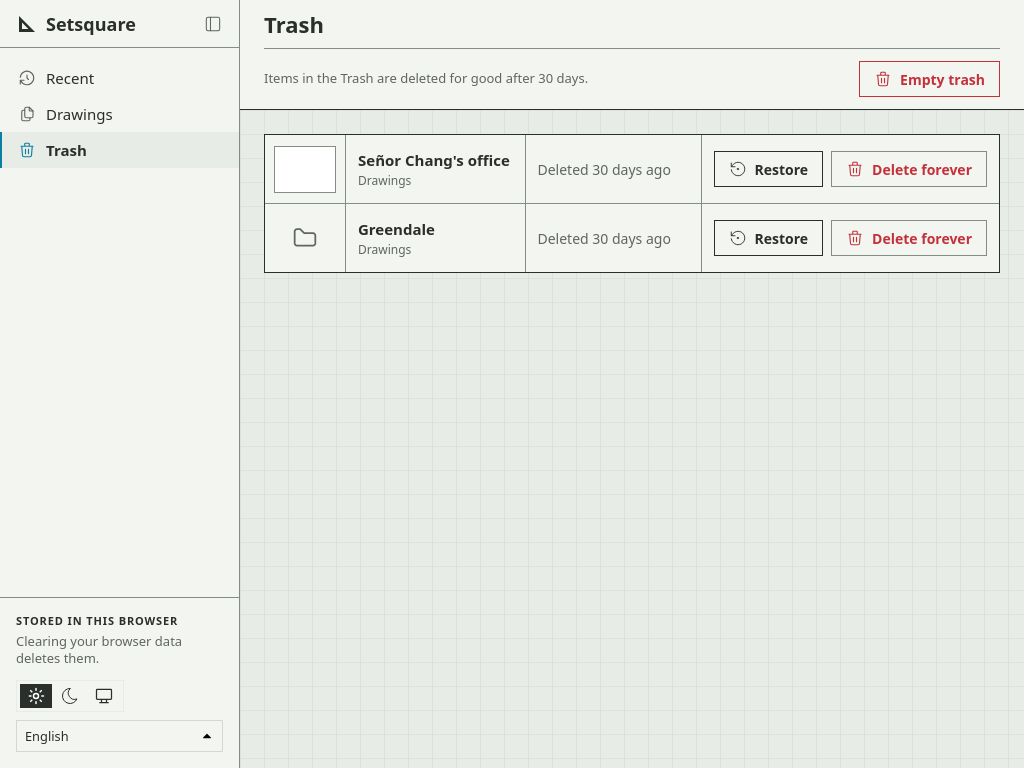
Test: the Trash › empties once that's confirmed
Click the button "Empty trash" at (930, 79), box [859,61,1000,97]
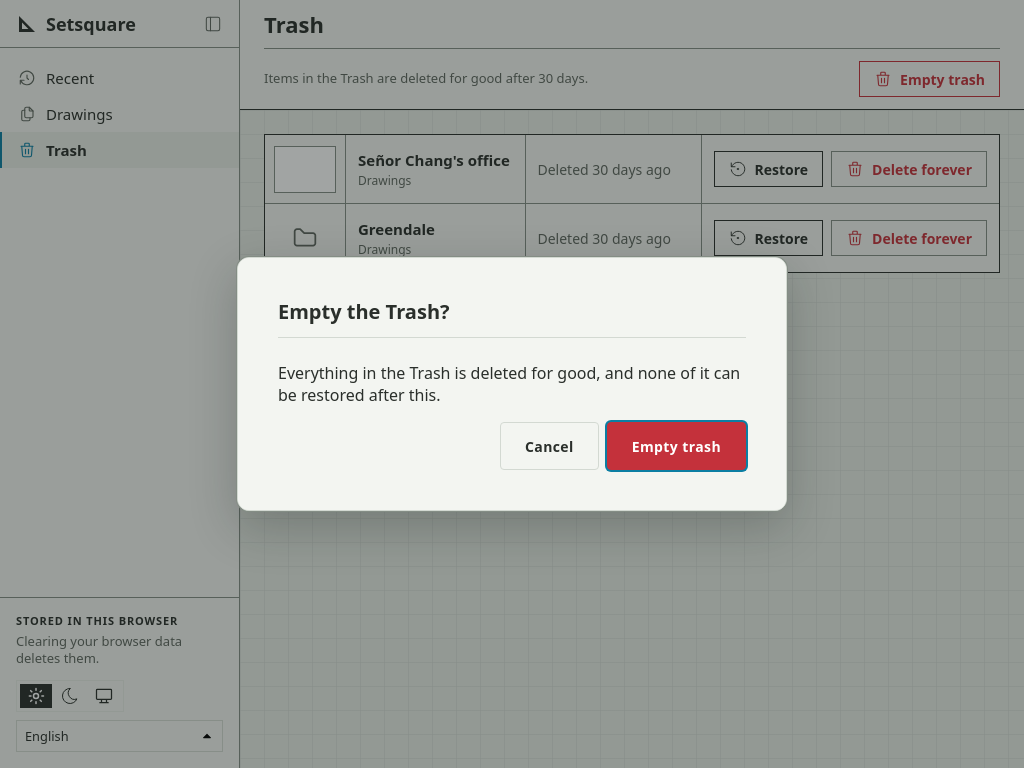
expect the heading "Empty the Trash?" is shown: met, box [278,298,746,338]
Click the button "Cancel" at (549, 446), box [500,422,599,470]
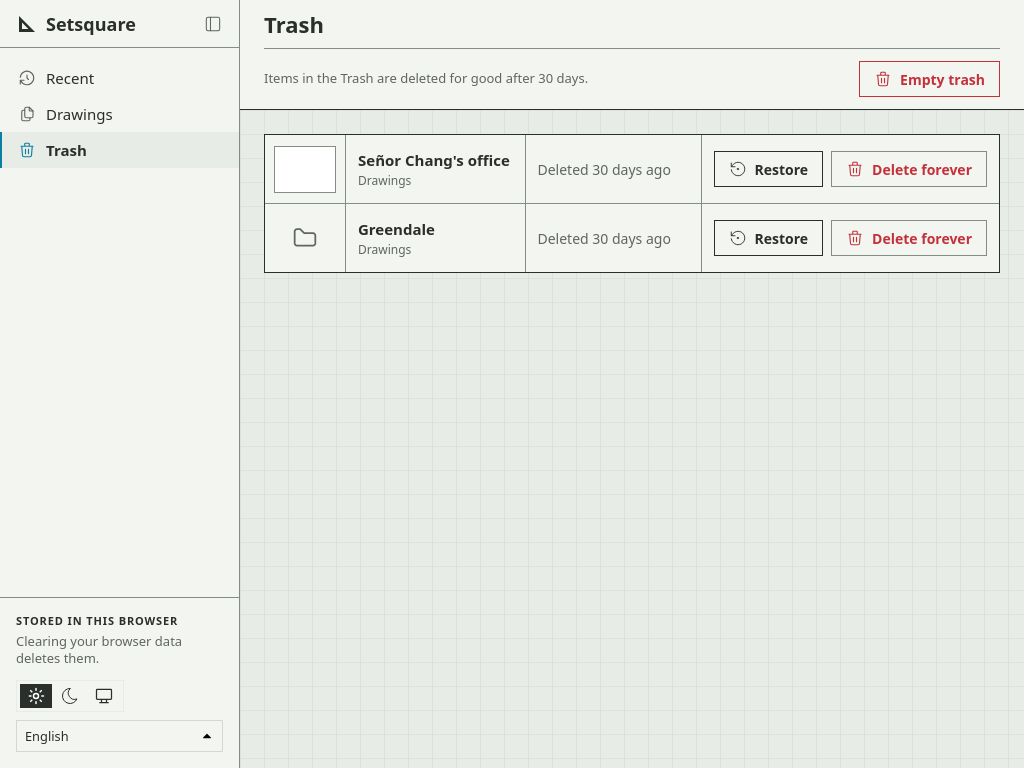
Click the button "Empty trash" at (930, 79), box [859,61,1000,97]
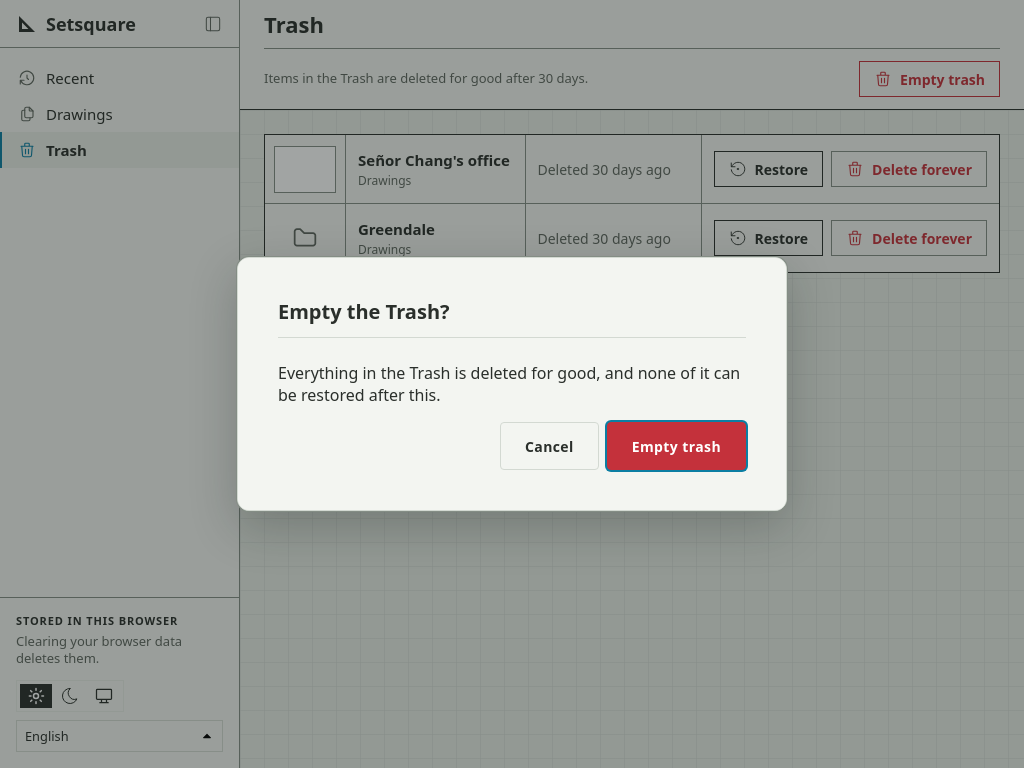
Click the button "Empty trash" at (676, 446), box [607,422,746,470]
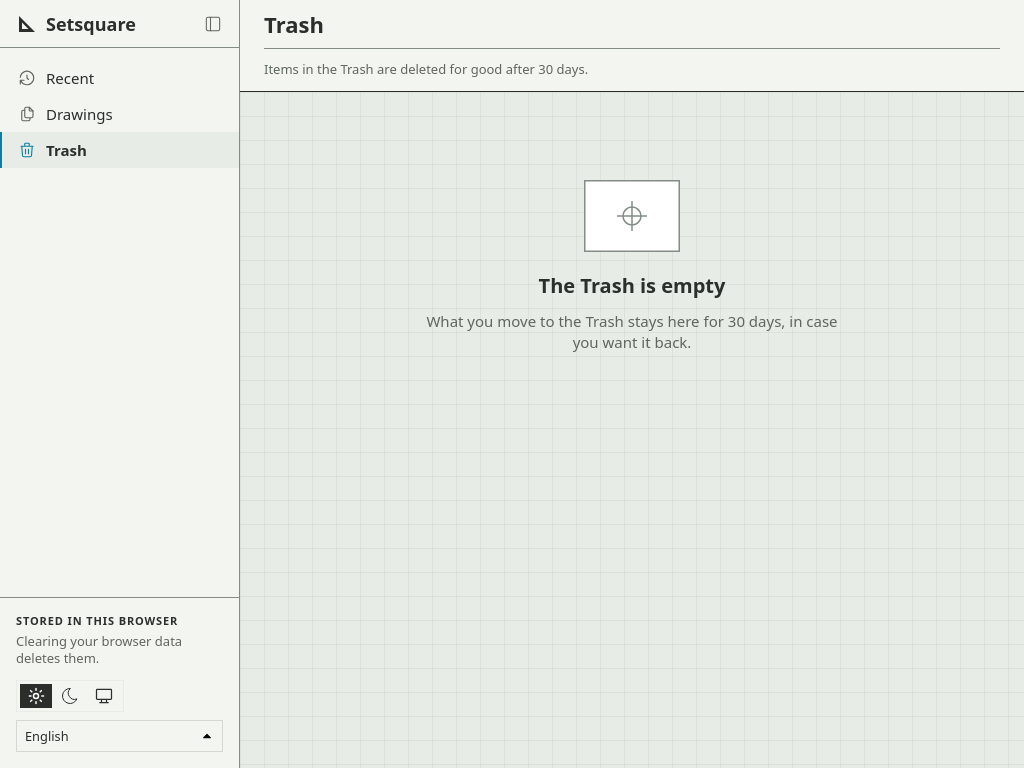
expect the heading "The Trash is empty" is shown: met, box [539,272,725,298]
expect the button "Empty trash" is gone: met
